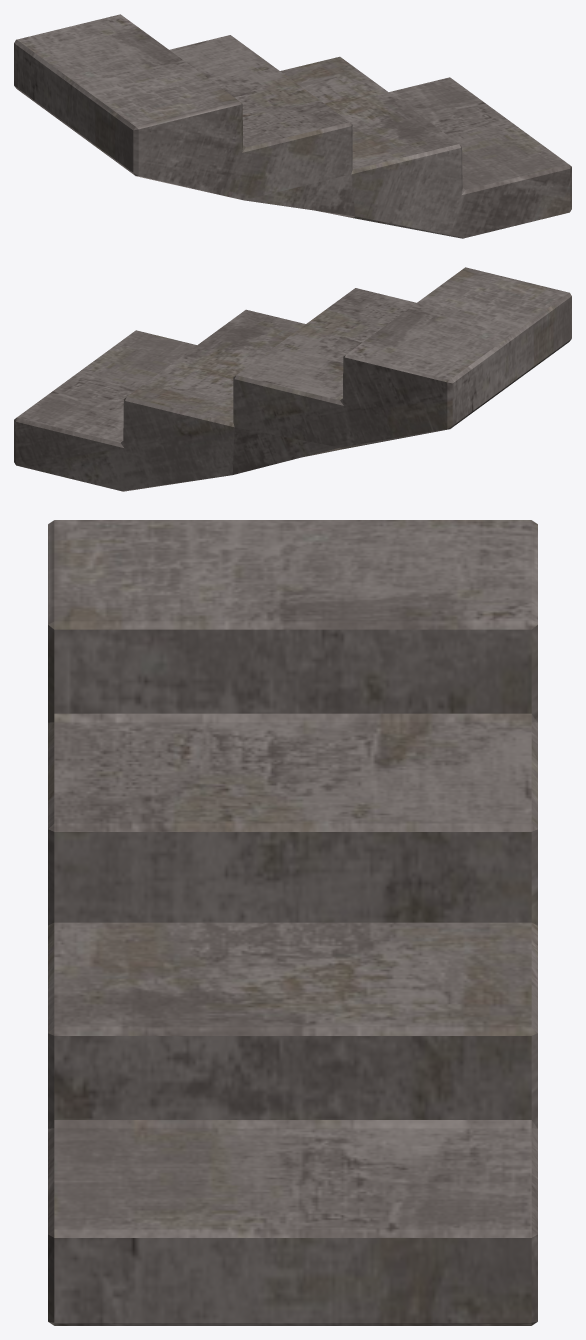
The model's file is stairs.fbx.
3 renders of one model, top to bottom at view 1: azimuth 30°, elevation 25°; view 2: azimuth 150°, elevation 25°; view 3: azimuth 270°, elevation 25°, orthographic. The views are drawn at different scales.
Parts seen in each view (by area): view 1: Cube.003; view 2: Cube.003; view 3: Cube.003.
Boxes of the visible parts, box(x1,y1,x2,y2) form: Cube.003: box(14, 14, 571, 238); Cube.003: box(14, 267, 571, 491); Cube.003: box(48, 520, 537, 1325).
Size of the model in its own units: 803 by 335 by 388.
